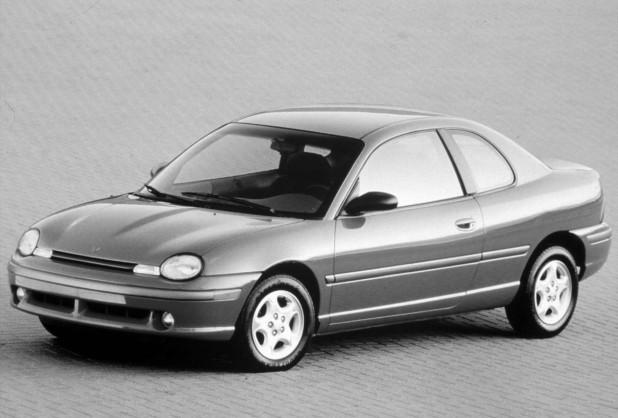car: (6, 106, 611, 372)
